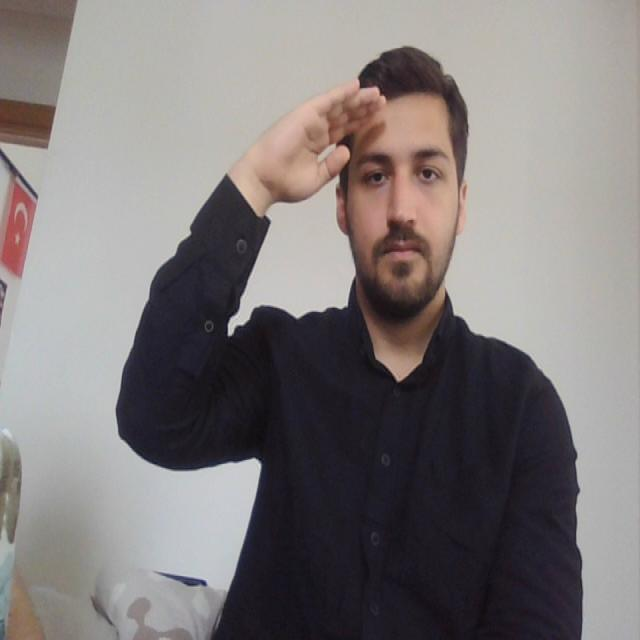Merhaba: (240, 42, 399, 252)
